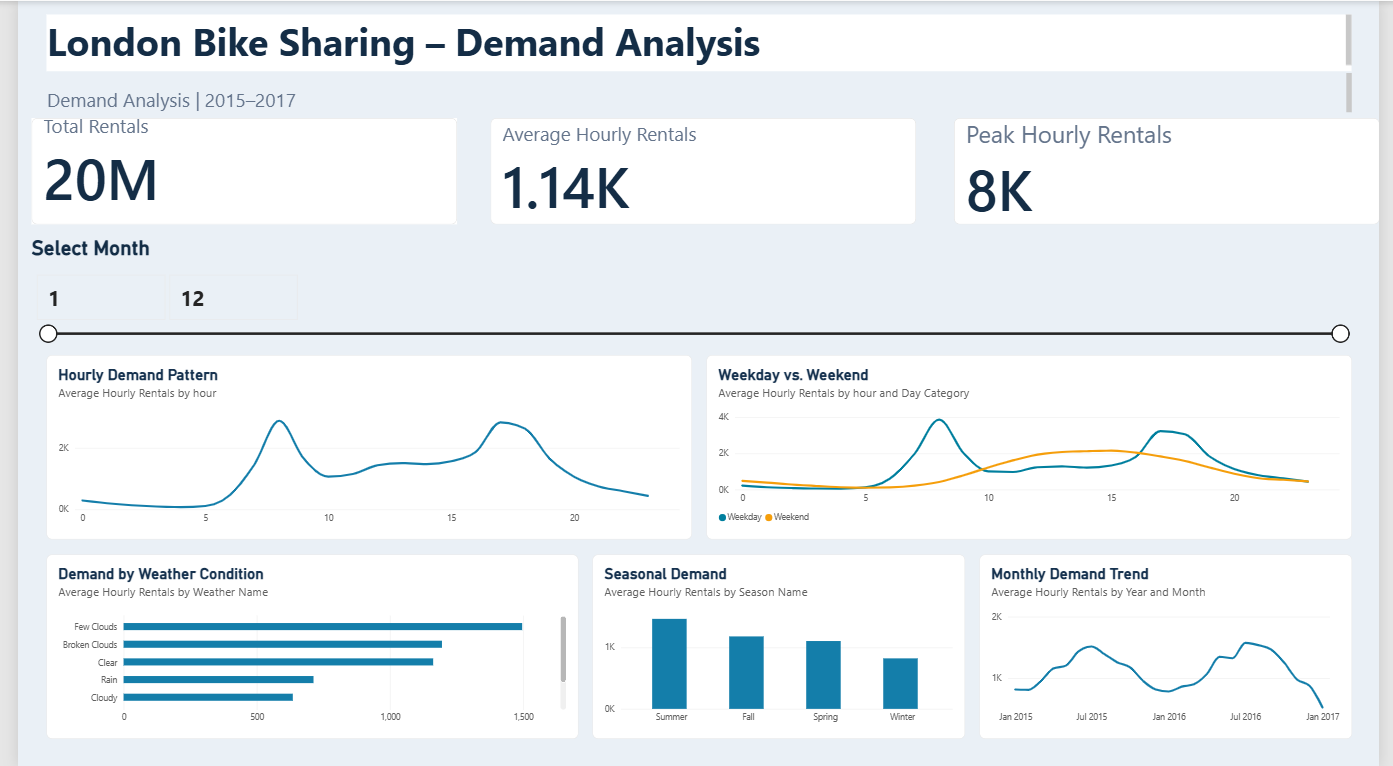

The dashboard page shown, as its layout file describes it:
{"tool":"powerbi","page":{"name":"Page 1","canvas":[1920,1080],"ordinal":0},"visuals":[{"type":"cardVisual","fields":{"Data":["london_bikes_cleaned.Total Rentals"]},"box":[18.8,164.1,600,150],"z":0},{"type":"cardVisual","fields":{"Data":["london_bikes_cleaned.Average Hourly Rentals"]},"box":[665.8,164.1,600,150],"z":1000},{"type":"cardVisual","fields":{"Data":["london_bikes_cleaned.Peak Hourly Rentals"]},"box":[1319.9,164.1,600,150],"z":2000},{"type":"lineChart","title":"Hourly Demand Pattern","fields":{"Category":["london_bikes_cleaned.hour"],"Y":["london_bikes_cleaned.Average Hourly Rentals"]},"box":[40,500,910,260],"z":3000},{"type":"clusteredColumnChart","title":"Seasonal Demand","fields":{"Category":["london_bikes_cleaned.Season Name"],"Y":["london_bikes_cleaned.Average Hourly Rentals"]},"box":[810,780,525,260],"z":4000},{"type":"clusteredBarChart","title":"Demand by Weather Condition","fields":{"Category":["london_bikes_cleaned.Weather Name"],"Y":["london_bikes_cleaned.Average Hourly Rentals"]},"box":[40,780,750,260],"z":5000},{"type":"lineChart","title":"Weekday vs. Weekend","fields":{"Category":["london_bikes_cleaned.hour"],"Series":["london_bikes_cleaned.Day Category"],"Y":["london_bikes_cleaned.Average Hourly Rentals"]},"box":[970,500,910,260],"z":6000},{"type":"slicer","title":"Select Month","fields":{"Values":["london_bikes_cleaned.month"]},"box":[18.8,332.9,1861.5,185.2],"z":7000},{"type":"textbox","box":[40,20,1840,80],"z":8000},{"type":"lineChart","title":"Monthly Demand Trend","fields":{"Category":["london_bikes_cleaned.timestamp.Variation.Date Hierarchy.Year","london_bikes_cleaned.timestamp.Variation.Date Hierarchy.Month"],"Y":["london_bikes_cleaned.Average Hourly Rentals"]},"box":[1355,780,525,260],"z":9000},{"type":"textbox","box":[39.9,100.8,1840.4,63.3],"z":10000}]}

Visuals, with their boxes in screenshot pixels (x1, y1, x2, y2), scaled from the page's 1920x1080 canvas onto the 1393x766 screenshot:
cardVisual - london_bikes_cleaned.Total Rentals: region(14, 116, 449, 223)
cardVisual - london_bikes_cleaned.Average Hourly Rentals: region(483, 116, 918, 223)
cardVisual - london_bikes_cleaned.Peak Hourly Rentals: region(958, 116, 1392, 223)
"Hourly Demand Pattern" lineChart: region(29, 355, 689, 539)
"Seasonal Demand" clusteredColumnChart: region(588, 553, 969, 738)
"Demand by Weather Condition" clusteredBarChart: region(29, 553, 573, 738)
"Weekday vs. Weekend" lineChart: region(704, 355, 1364, 539)
"Select Month" slicer: region(14, 236, 1364, 367)
textbox: region(29, 14, 1364, 71)
"Monthly Demand Trend" lineChart: region(983, 553, 1364, 738)
textbox: region(29, 71, 1364, 116)
